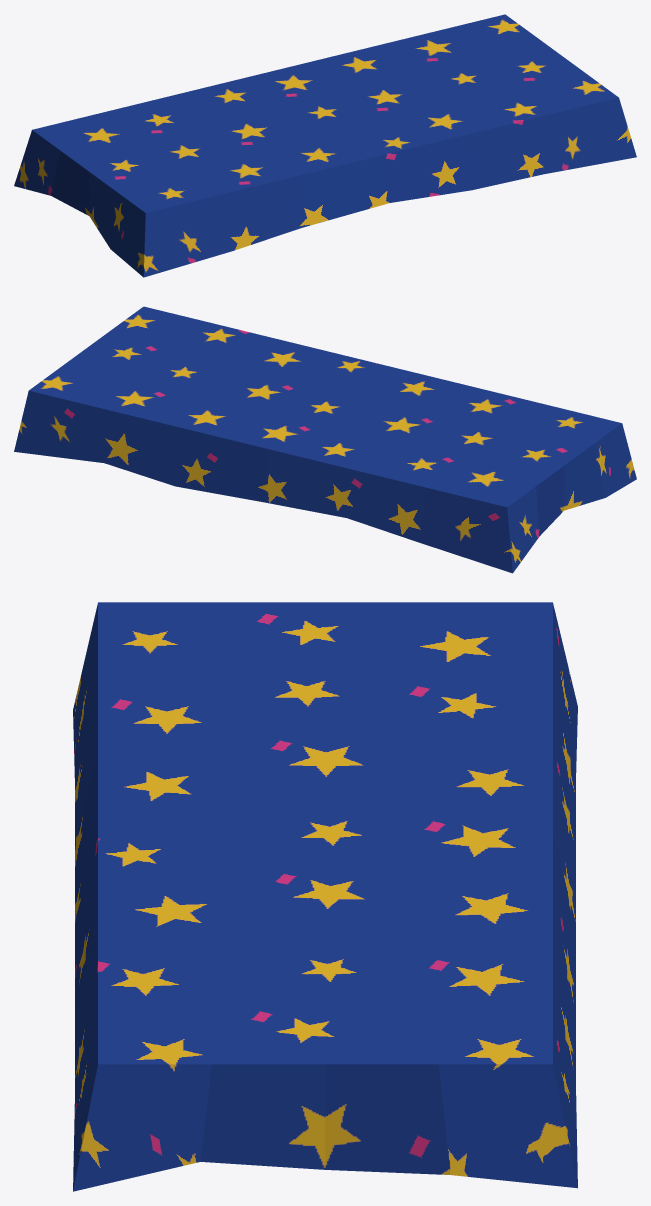
File: party_cloth_rect_stars.glb
3 views of the same model, one above another, from view 1: azimuth 30°, elevation 25°; view 2: azimuth 150°, elevation 25°; view 3: azimuth 270°, elevation 25° (orthographic). The views are drawn at different scales.
Visible parts, largest first — view 1: party_cloth_rect_stars_body; view 2: party_cloth_rect_stars_body; view 3: party_cloth_rect_stars_body.
Part boxes in pixels (x1,y1,x2,y2): party_cloth_rect_stars_body: (14, 14, 636, 277); party_cloth_rect_stars_body: (14, 306, 636, 573); party_cloth_rect_stars_body: (73, 602, 577, 1191).
Size of the model in its own units: 2.25 by 0.2513 by 0.9893.
1 material, 1 textured.
